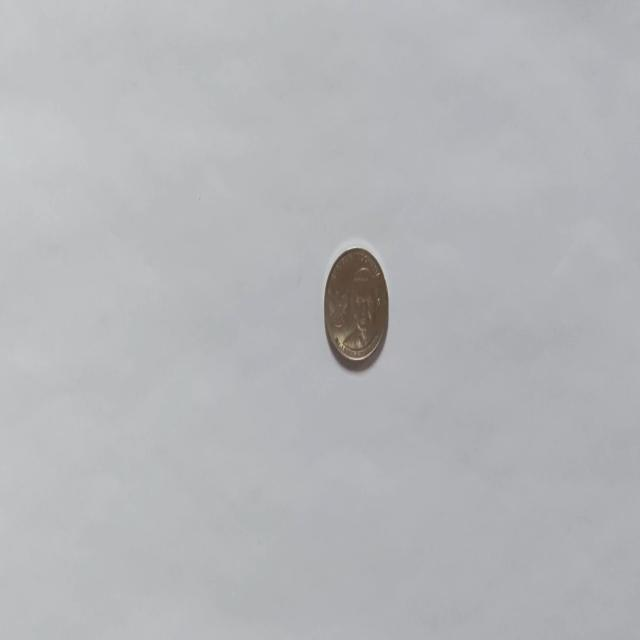seribu rupiah koin: (322, 242, 390, 368)
